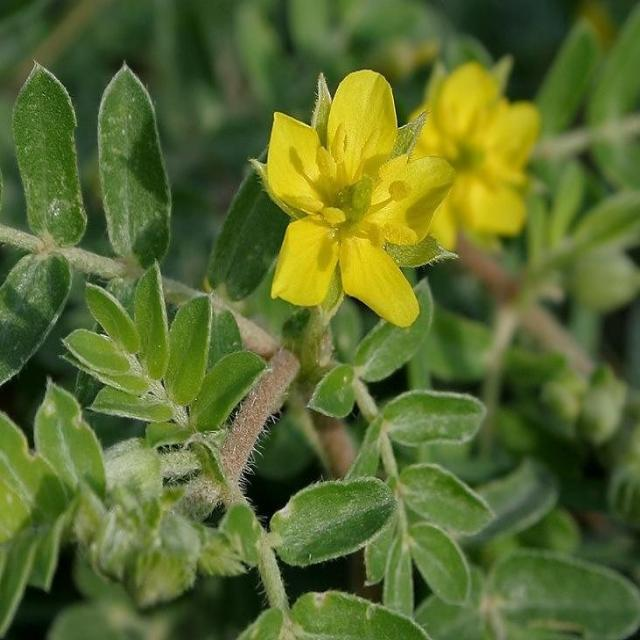Gokharu: (211, 349, 640, 640), (0, 300, 360, 636), (0, 26, 311, 403), (225, 31, 511, 330), (388, 60, 640, 330)
